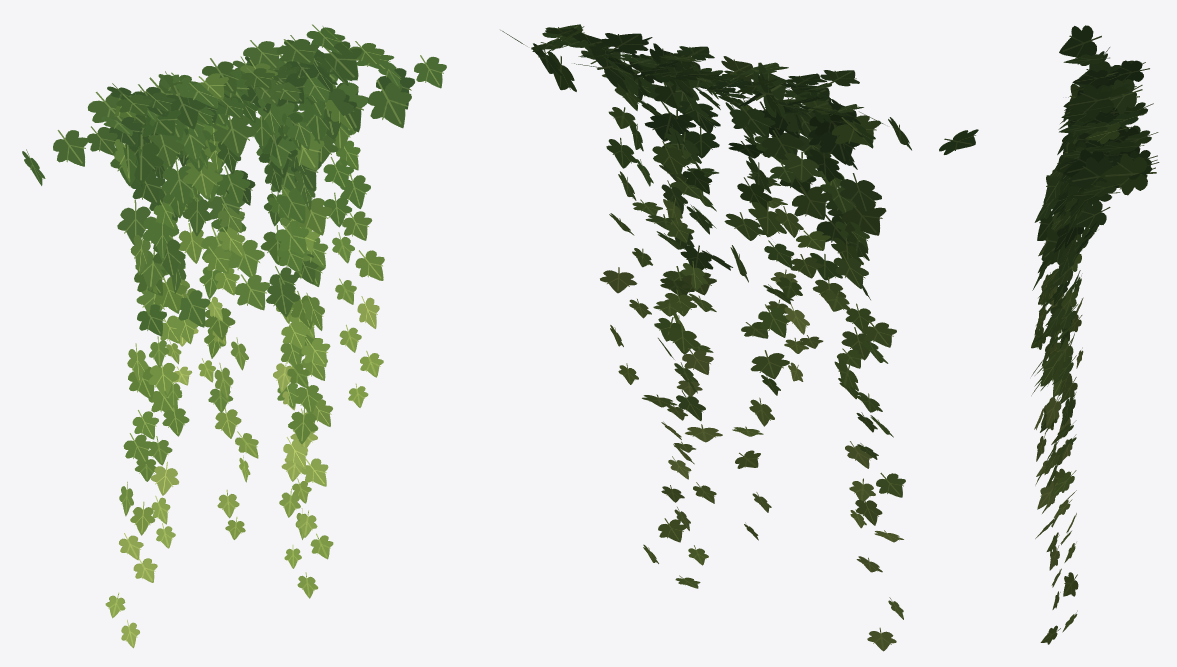
3 views of the same model, side by side, from view 1: azimuth 30°, elevation 25°; view 2: azimuth 150°, elevation 25°; view 3: azimuth 270°, elevation 25° (orthographic). The views are drawn at different scales.
Parts seen in each view (by area): view 1: Mesh_ivy; view 2: Mesh_ivy; view 3: Mesh_ivy.
Part boxes in pixels (x1,y1,x2,y2): Mesh_ivy: [22, 24, 446, 648]; Mesh_ivy: [500, 24, 978, 651]; Mesh_ivy: [1031, 25, 1159, 644].
Size of the model in its own units: 2.42 by 2.87 by 0.6687.
Materials: 1 (1 with a texture image).
